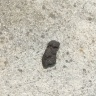Dog: (42, 40, 60, 68)
